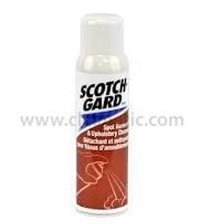aerosol_cans: (67, 8, 134, 221)
